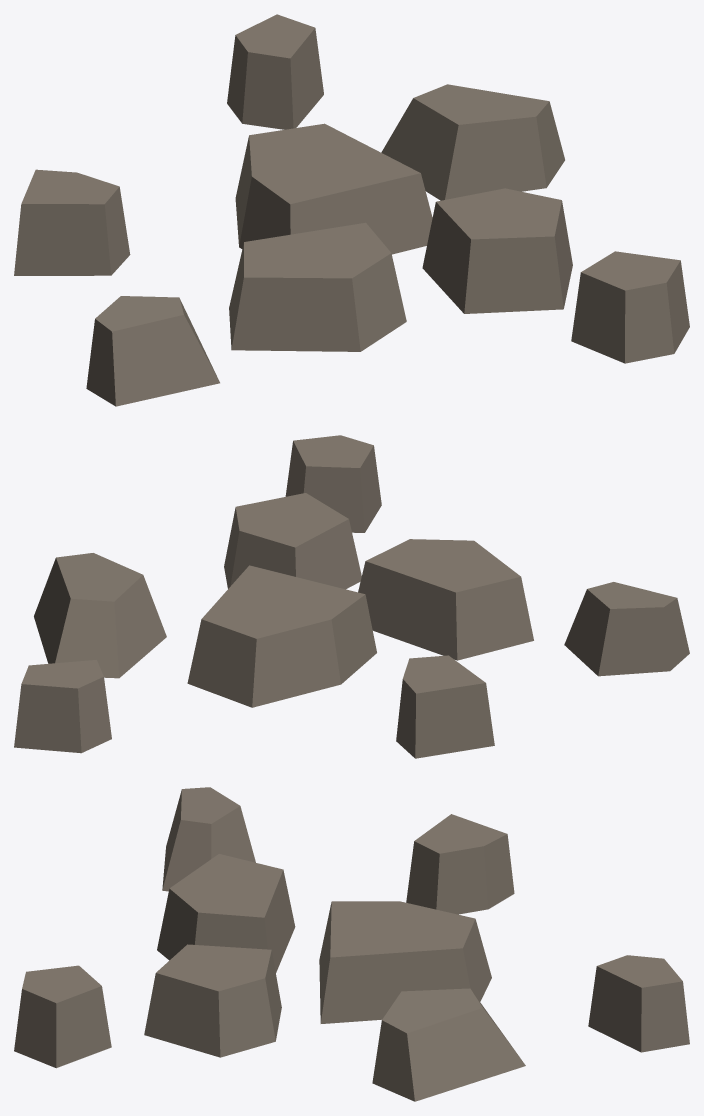
The model's file is SM_Env_Pebbles_03.fbx.
3 views of the same model, one above another, from view 1: azimuth 30°, elevation 25°; view 2: azimuth 150°, elevation 25°; view 3: azimuth 270°, elevation 25° (orthographic). The views are drawn at different scales.
Parts seen in each view (by area): view 1: SM_Env_Pebbles_03; view 2: SM_Env_Pebbles_03; view 3: SM_Env_Pebbles_03.
Boxes of the visible parts, left/top/right/bottom form: SM_Env_Pebbles_03: left=14, top=14, right=689, bottom=406; SM_Env_Pebbles_03: left=14, top=435, right=689, bottom=758; SM_Env_Pebbles_03: left=14, top=787, right=689, bottom=1101.
Bounding box in the file's own units: 138 × 15.3 × 154.
